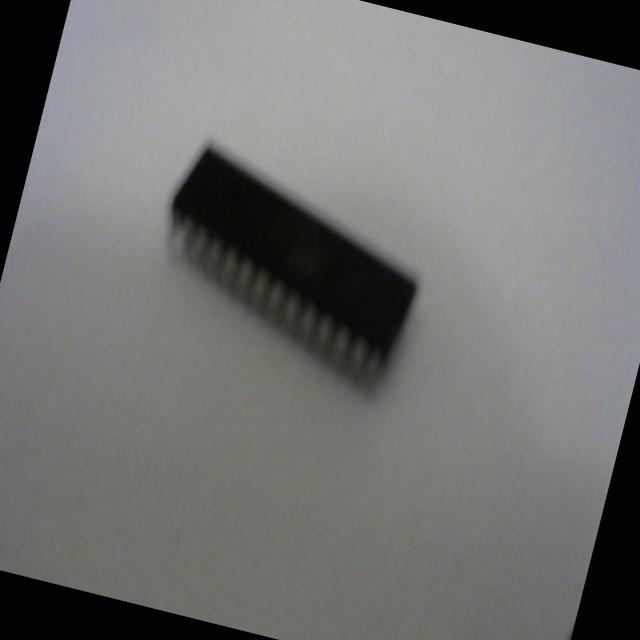atmega: (133, 130, 443, 406)
